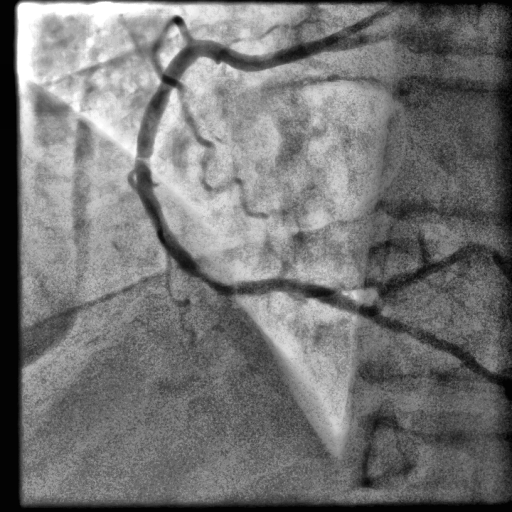pborca: (373, 244, 510, 312)
pda: (366, 313, 511, 387)
rca: (135, 32, 379, 318)
